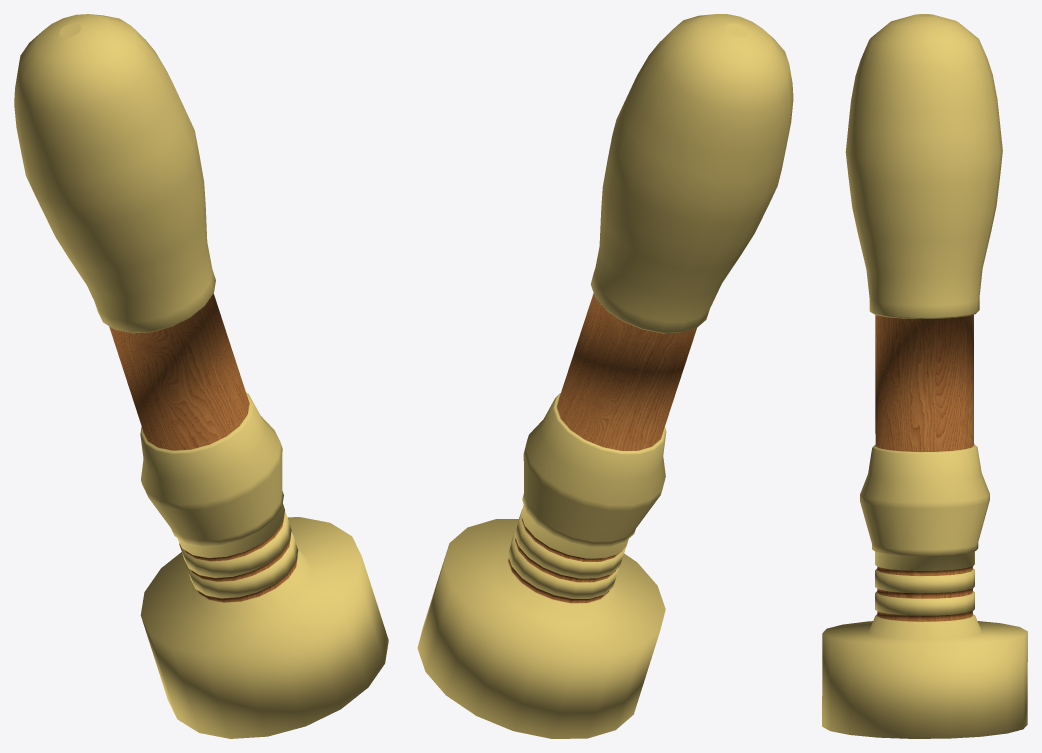
File: stamp.fbx
The picture shows the model from 3 angles, left to right: view 1: azimuth 30°, elevation 25°; view 2: azimuth 150°, elevation 25°; view 3: azimuth 270°, elevation 25°; orthographic projection. The views are drawn at different scales.
Visible parts, largest first — view 1: stamp; view 2: stamp; view 3: stamp.
Part boxes in pixels (x1=…): stamp: x1=14, y1=14, x2=388, y2=738; stamp: x1=417, y1=14, x2=793, y2=738; stamp: x1=822, y1=14, x2=1027, y2=738.
Size of the model in its own units: 9.98 by 19.89 by 5.71.
